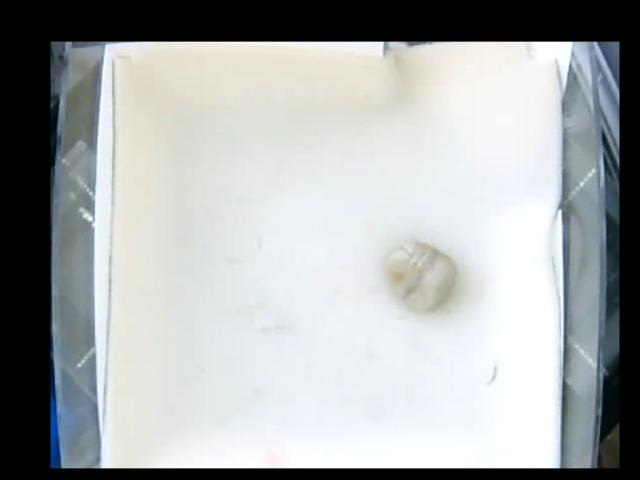Pebble: (384, 238, 458, 310)
